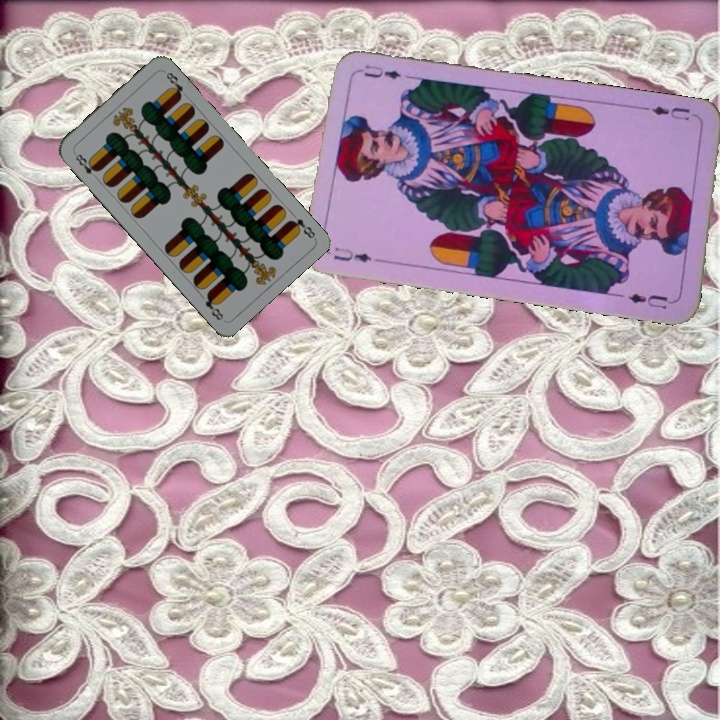E8: (285, 207, 318, 241), (70, 148, 102, 177)
EU: (648, 101, 693, 124), (329, 243, 374, 265)
